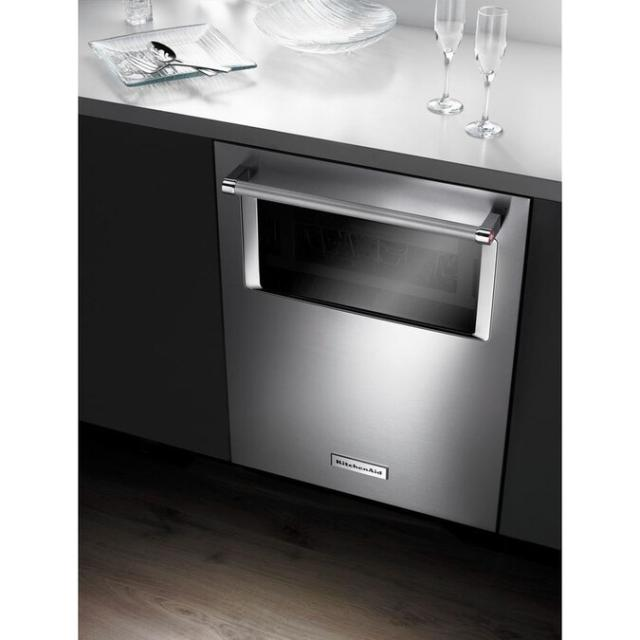dishwasher: (205, 130, 539, 548)
